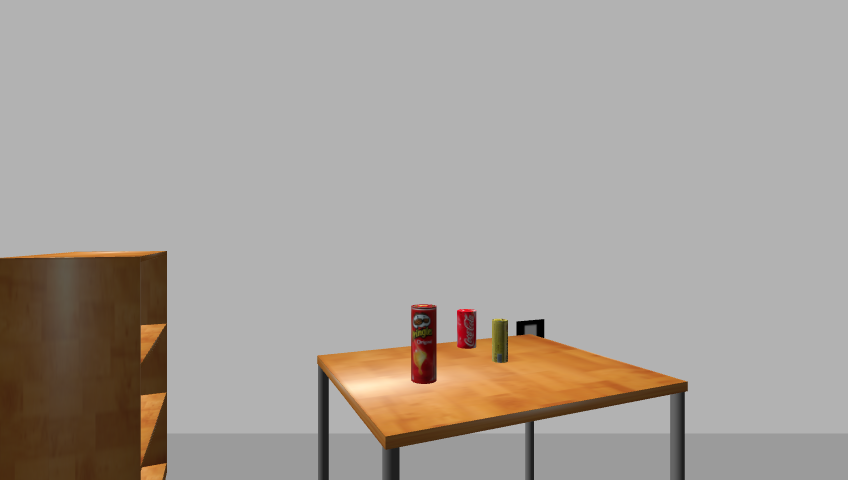aruco marker: (512, 318, 549, 343)
biscuits pack: (492, 319, 510, 364)
bookshelf: (0, 250, 176, 479)
coke can: (455, 308, 478, 350)
dinner table: (309, 334, 698, 480)
pringles can: (408, 303, 438, 386)
